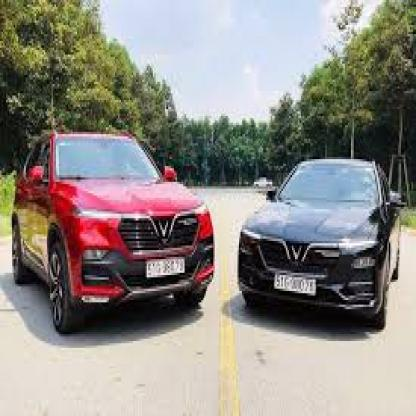biensoxe: (273, 270, 317, 294), (146, 255, 186, 281)
